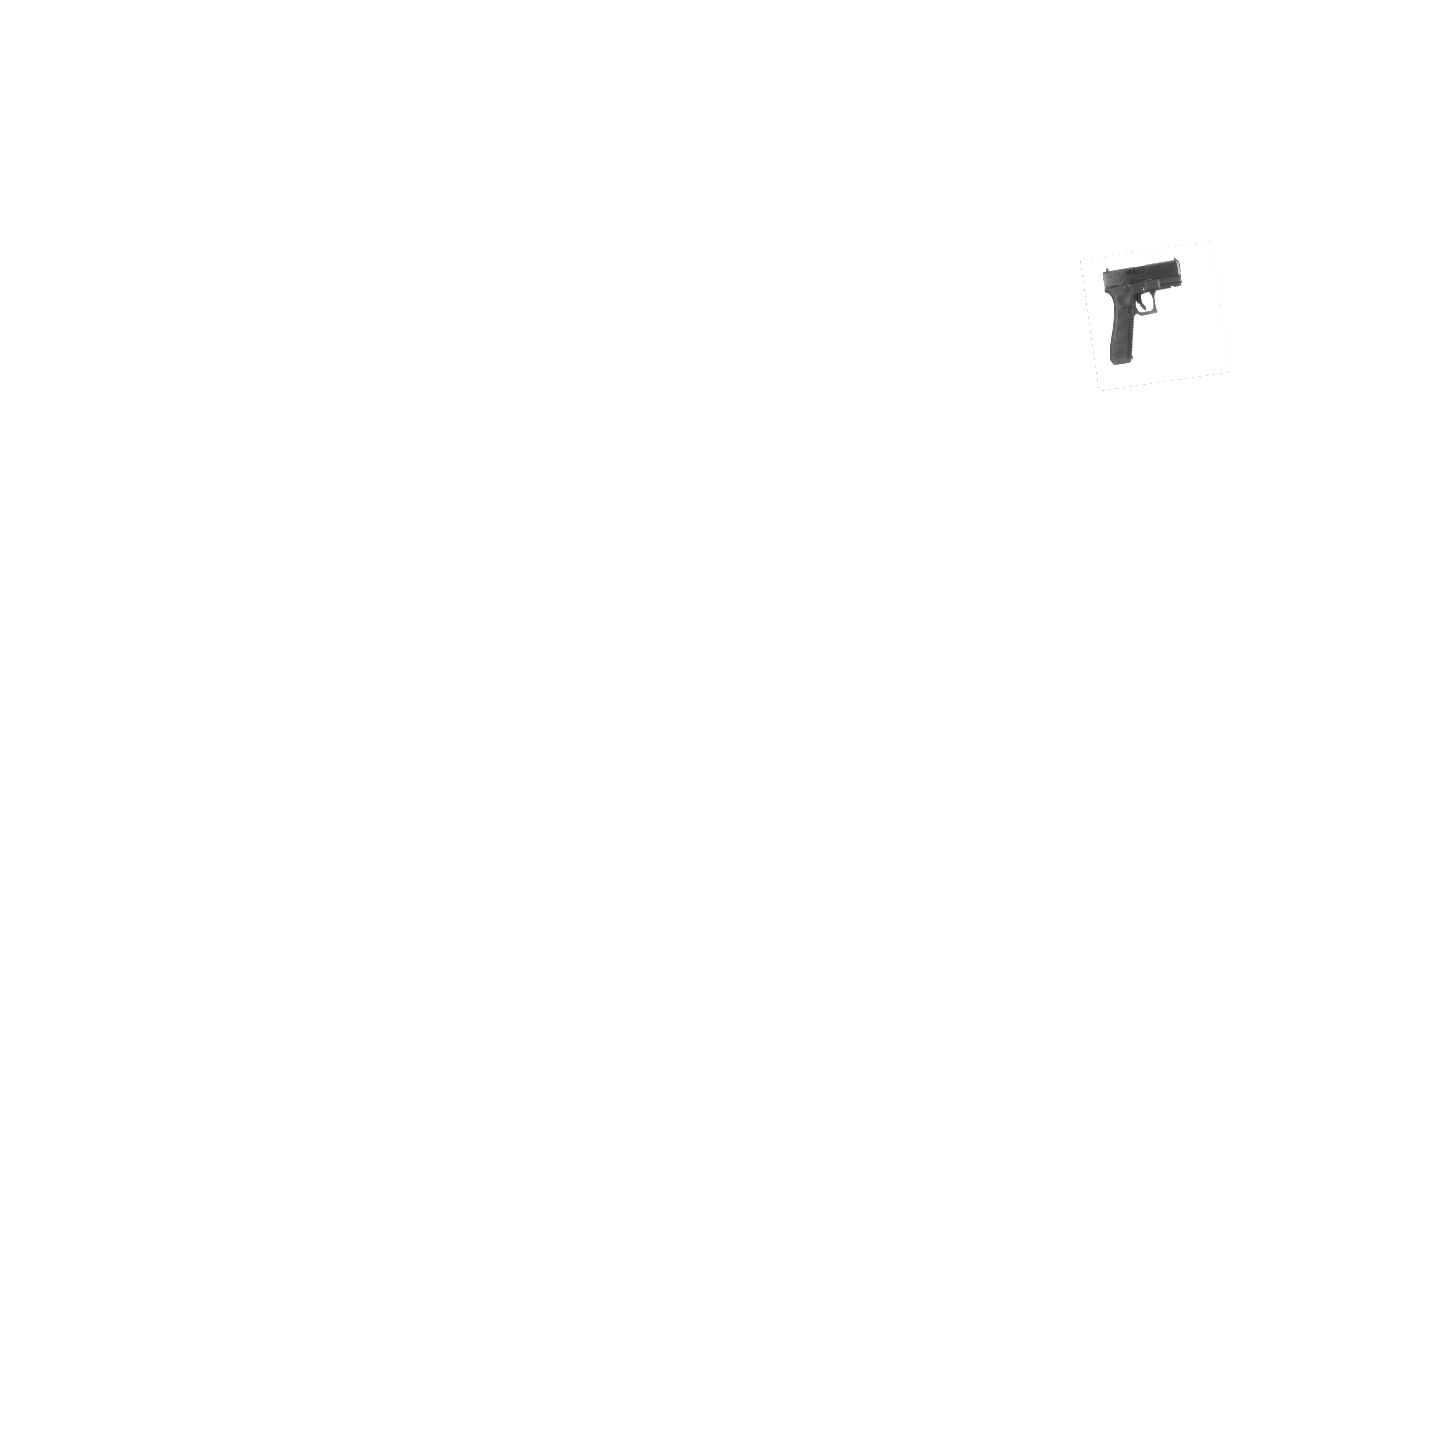gun: (1090, 255, 1189, 366)
